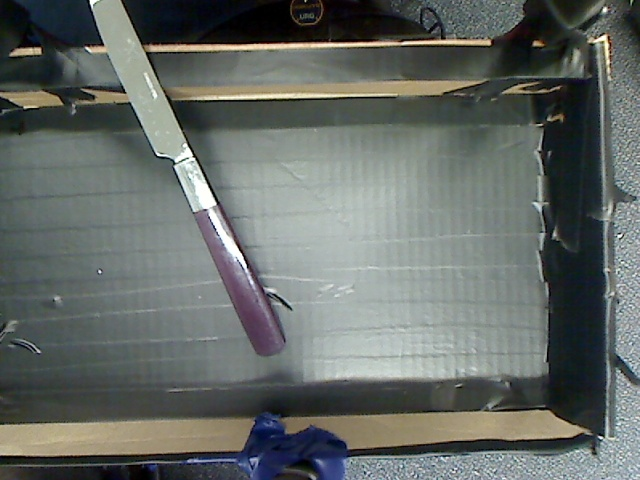knife: (79, 1, 312, 360)
